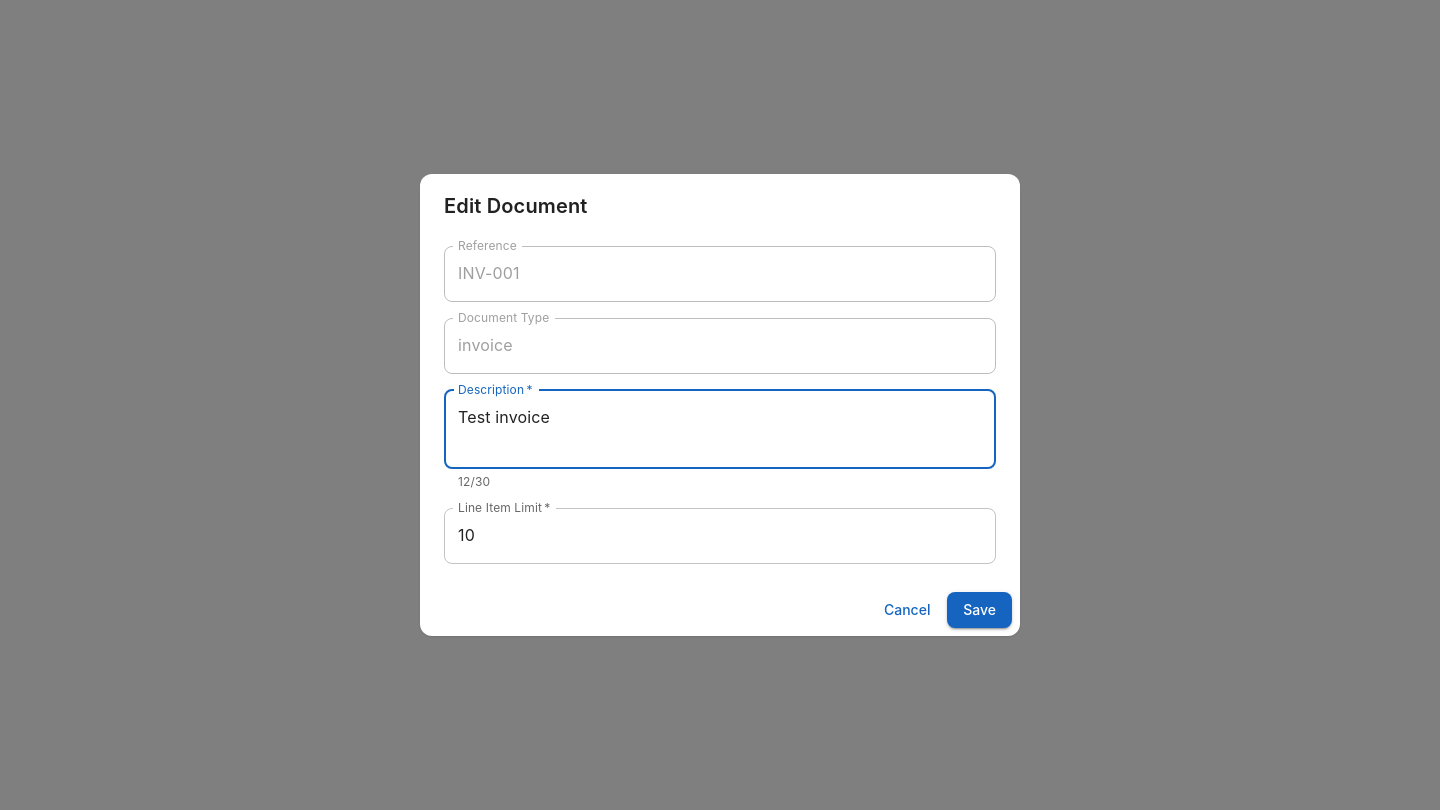
it: UpdateDocumentDialog › updates character counter when typing
This screenshot has width=1440, height=810.
Replace the text in the text box labelled "Description *" with "Updated" at (720, 429), box top-left (458, 406), bottom-right (982, 452)
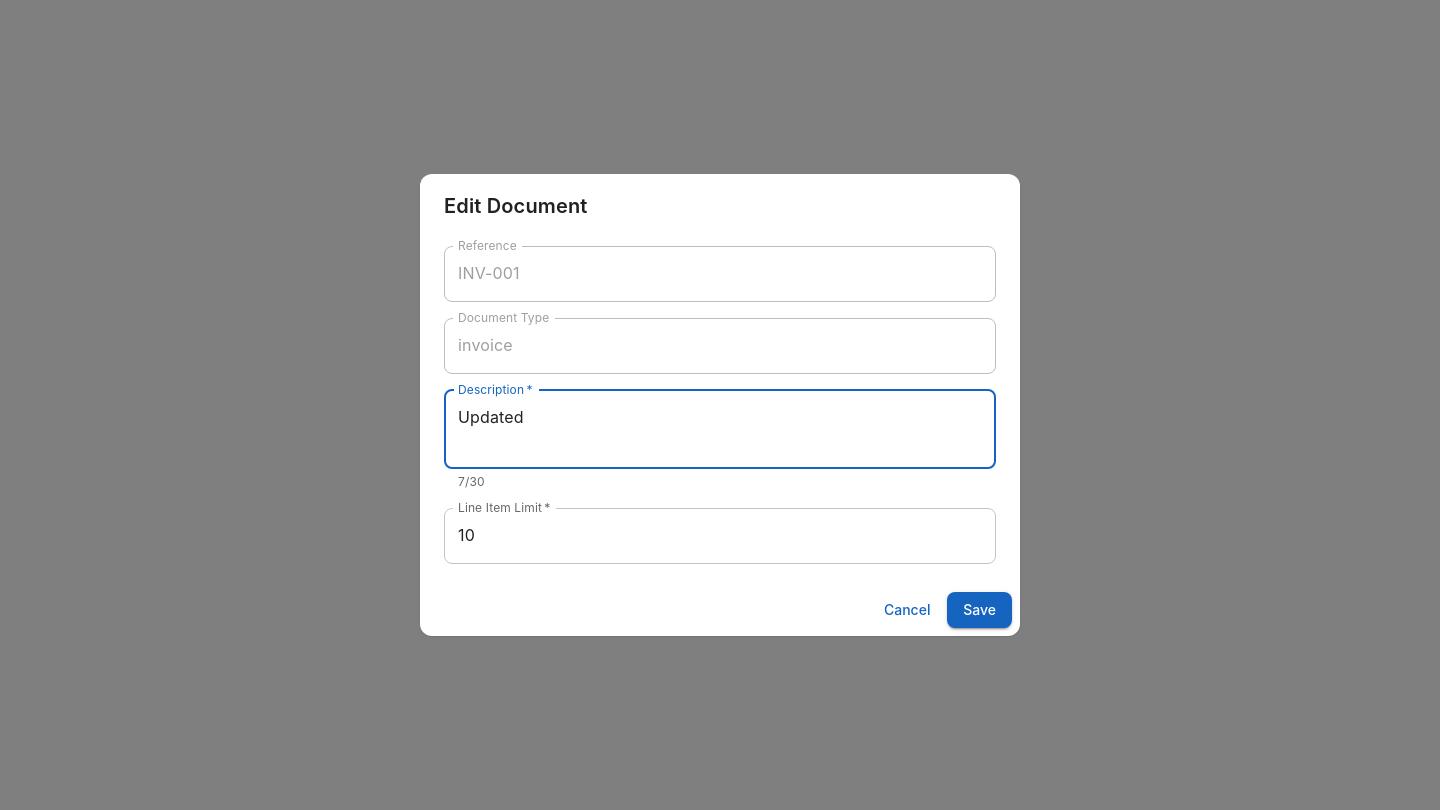
Check: the text "7/30" is shown, box top-left (458, 474), bottom-right (485, 489)
